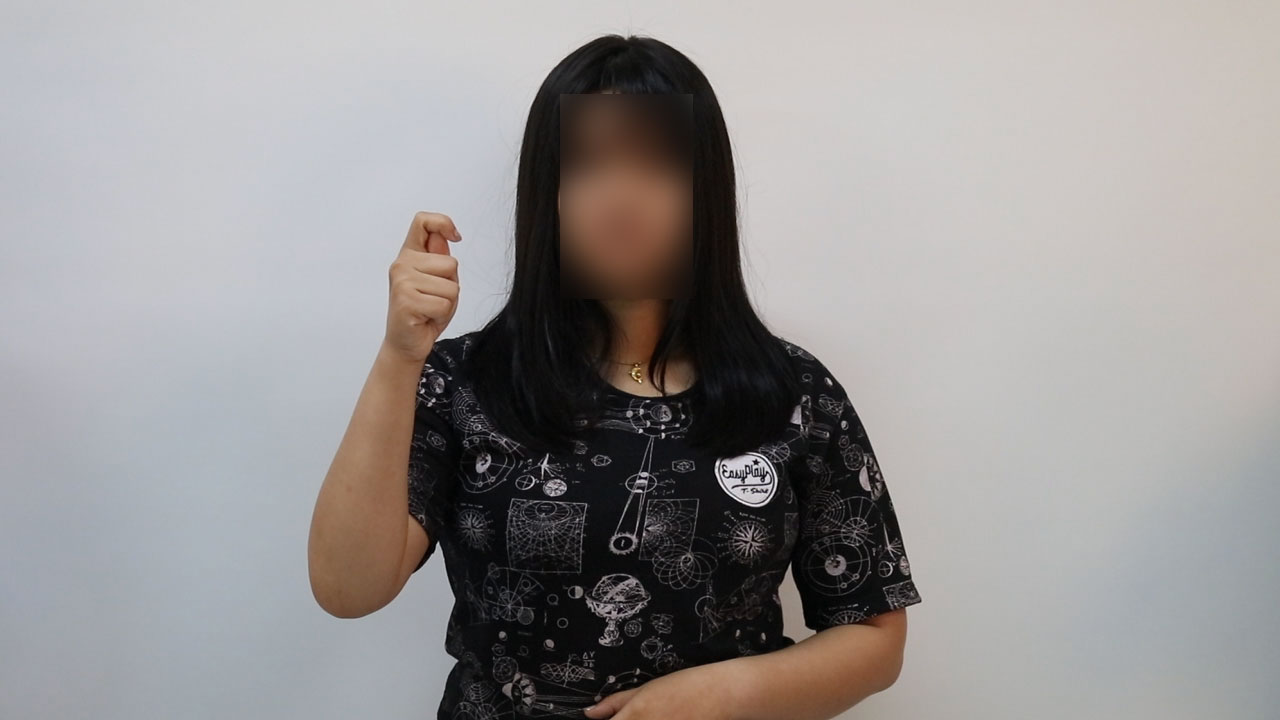or: (375, 203, 476, 365)
